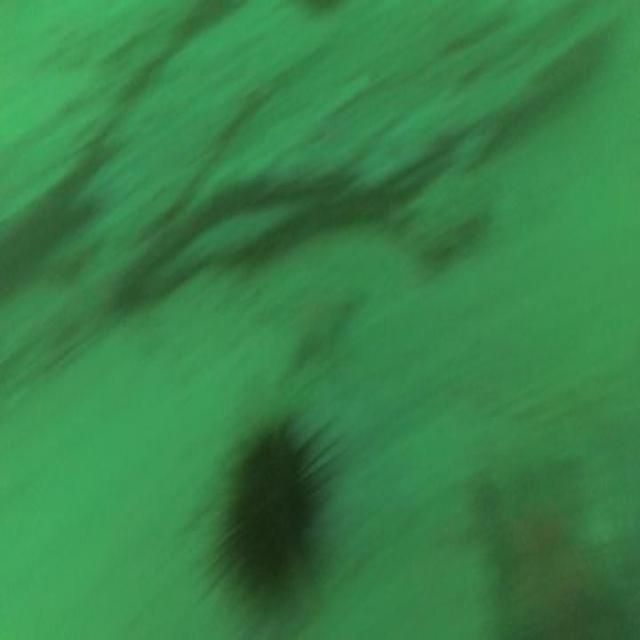echinus: (214, 408, 323, 605)
